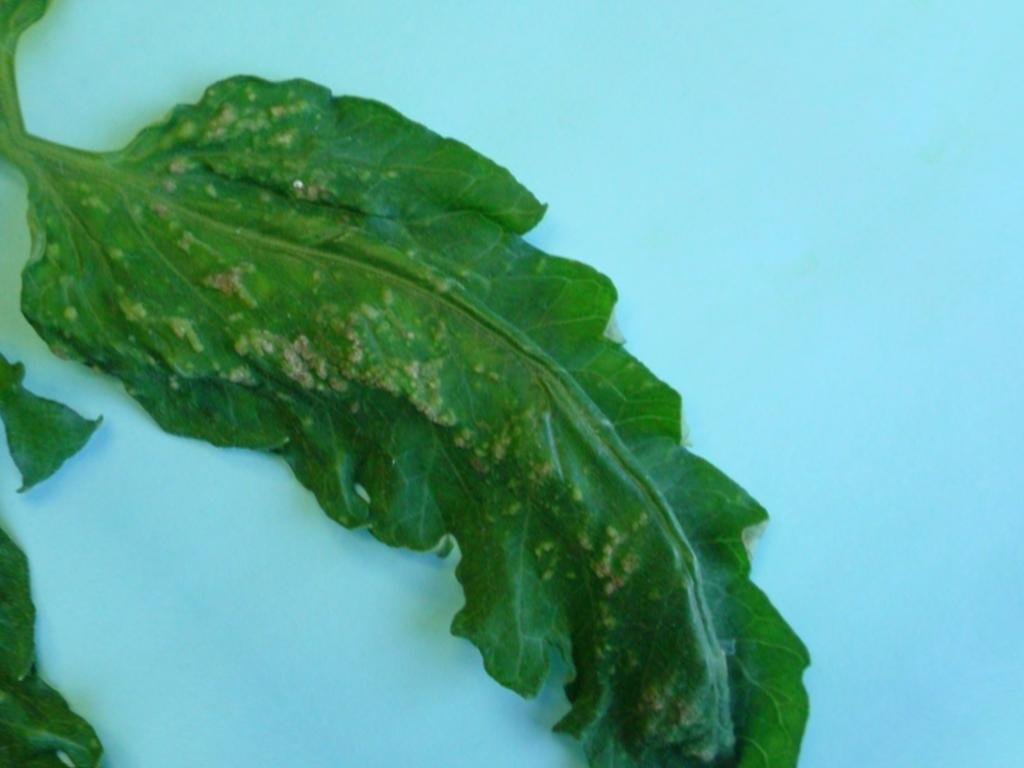Tomato mold leaf: (0, 0, 995, 768)
